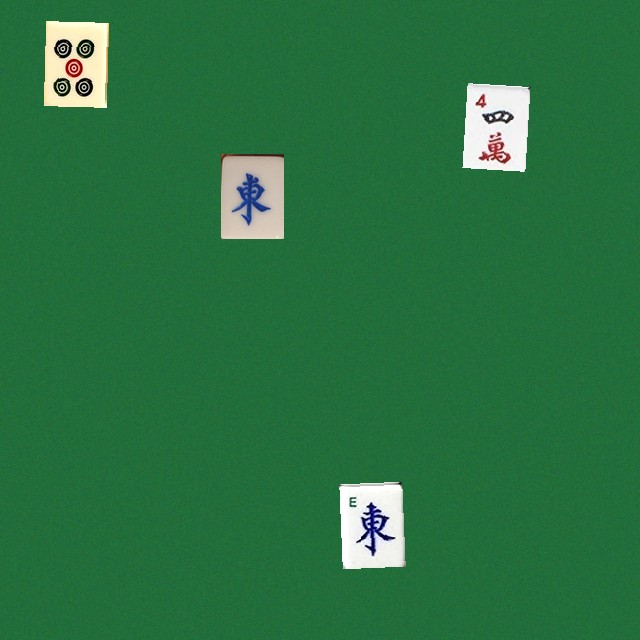tile: (220, 153, 283, 238), (462, 83, 525, 168), (339, 481, 402, 566), (43, 21, 106, 106)
